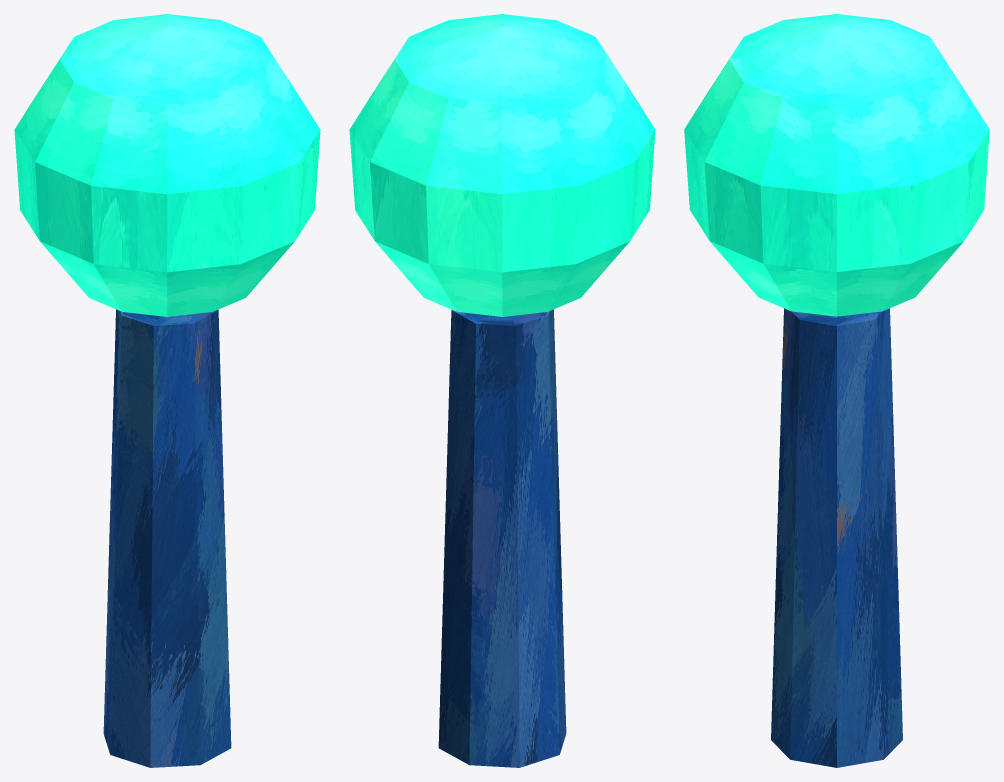
File: part-antenna.glb
3 views of the same model, side by side, from view 1: azimuth 30°, elevation 25°; view 2: azimuth 150°, elevation 25°; view 3: azimuth 270°, elevation 25° (orthographic).
Parts seen in each view (by area): view 1: Antenna_Tip, Antenna_Stem; view 2: Antenna_Tip, Antenna_Stem; view 3: Antenna_Tip, Antenna_Stem.
Boxes of the visible parts, x1,y1,x2,y2 form: Antenna_Tip: (14, 14, 320, 316); Antenna_Stem: (103, 309, 231, 767); Antenna_Tip: (349, 14, 655, 316); Antenna_Stem: (438, 309, 566, 767); Antenna_Tip: (684, 14, 989, 316); Antenna_Stem: (771, 308, 902, 767).
Bounding box in the file's own units: 0.162 × 0.417 × 0.162.
2 materials, 2 textured.
